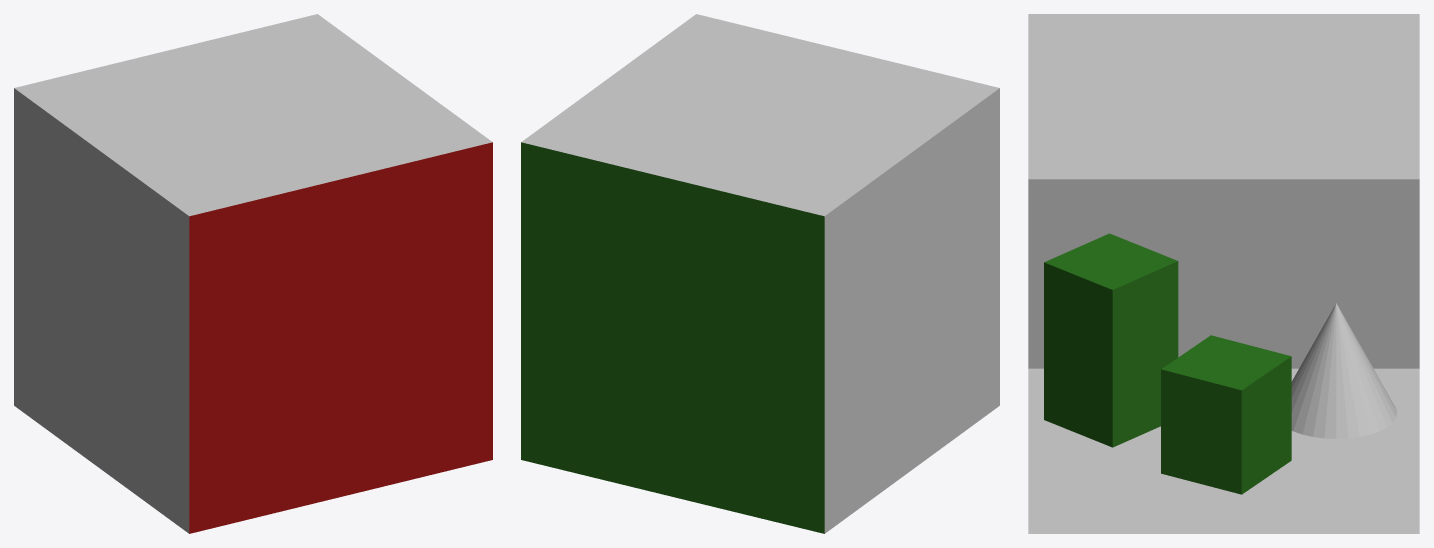
File: test_scenef.obj
The picture shows the model from 3 angles, left to right: view 1: azimuth 30°, elevation 25°; view 2: azimuth 150°, elevation 25°; view 3: azimuth 270°, elevation 25°; orthographic projection. The views are drawn at different scales.
Parts seen in each view (by area): view 1: Cube.001; view 2: Cube.001; view 3: Cube.001, Cube.002, Cube.003, Cone.
Boxes of the visible parts, <box> form: Cube.001: <box>14,14,492,533</box>; Cube.001: <box>521,14,999,533</box>; Cube.001: <box>1028,14,1419,533</box>; Cube.002: <box>1044,233,1178,447</box>; Cube.003: <box>1161,335,1291,494</box>; Cone: <box>1291,303,1397,438</box>.
Bounding box in the file's own units: 4.5 × 4.5 × 4.5.
